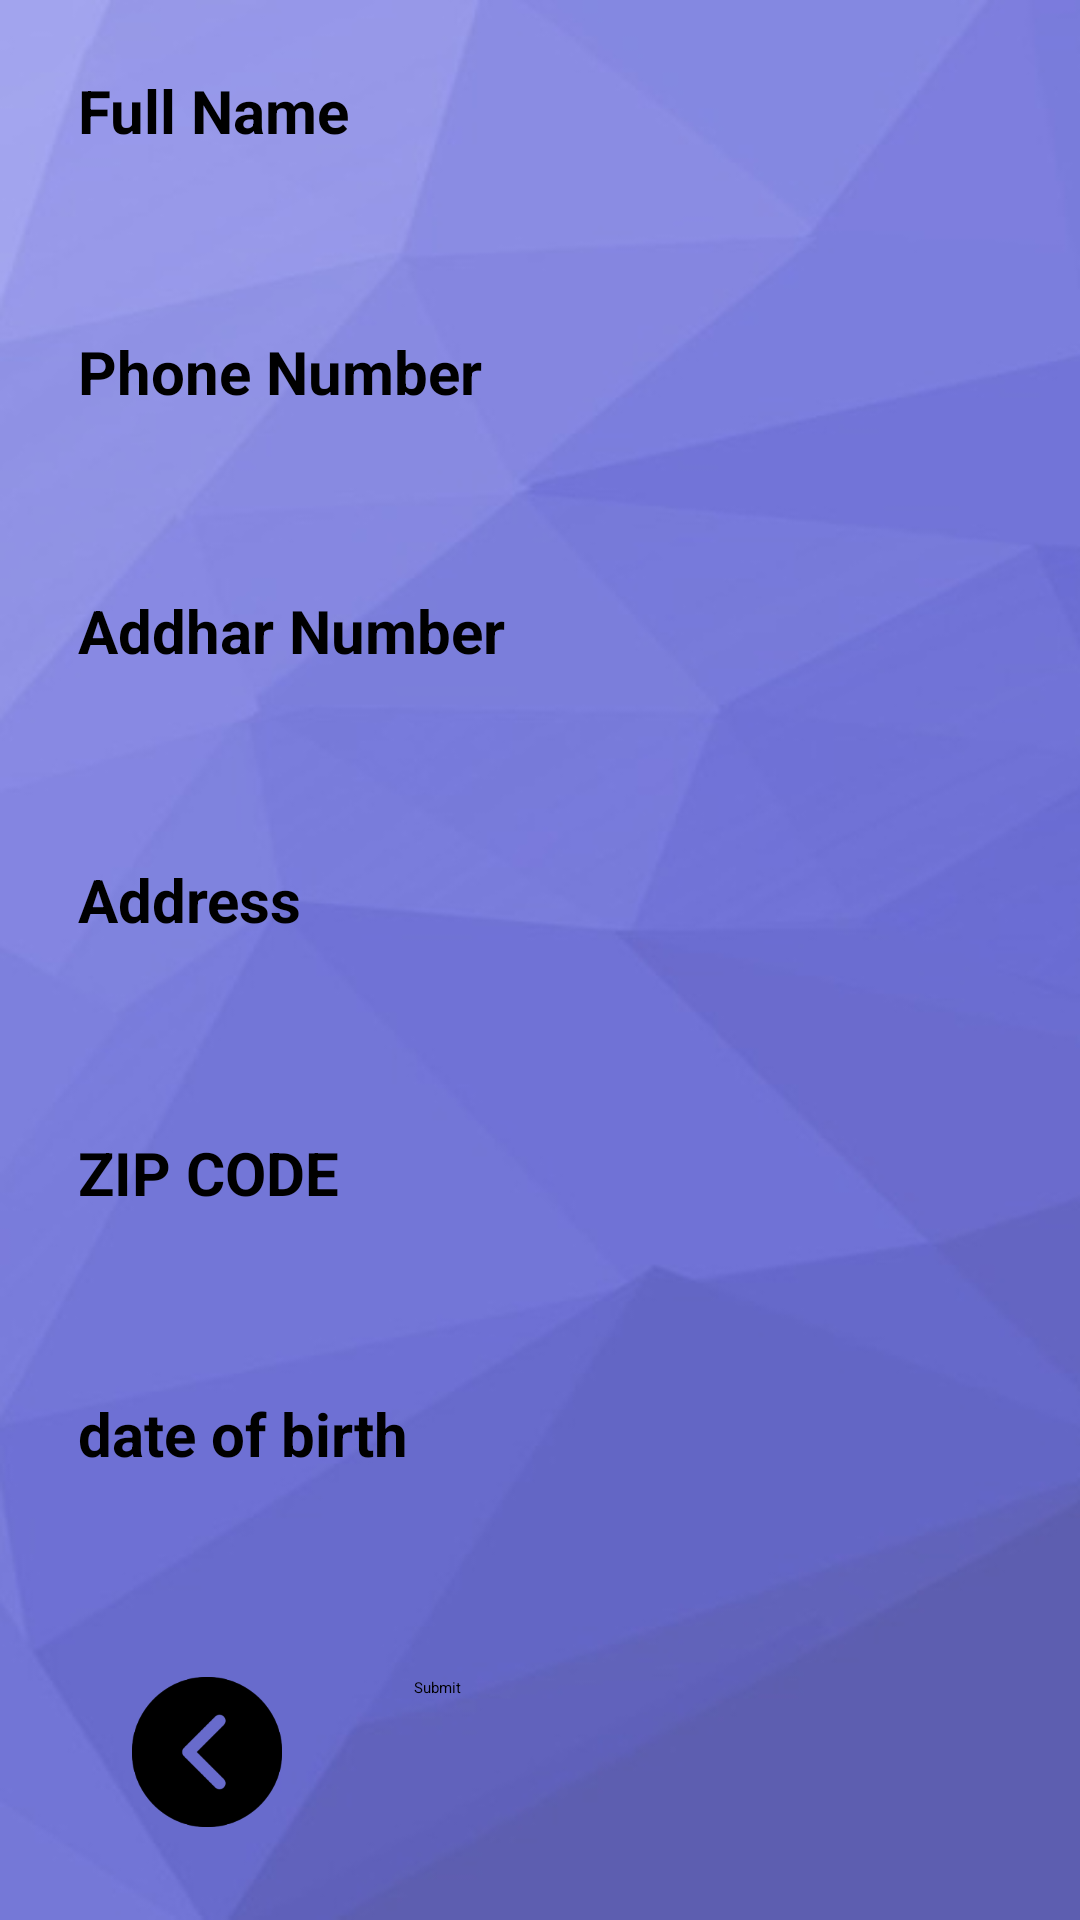

Where icons sit on this 1080 x 1920 app screen, as (x1, y1, x2, y2):
previous: (132, 1677, 282, 1827)
